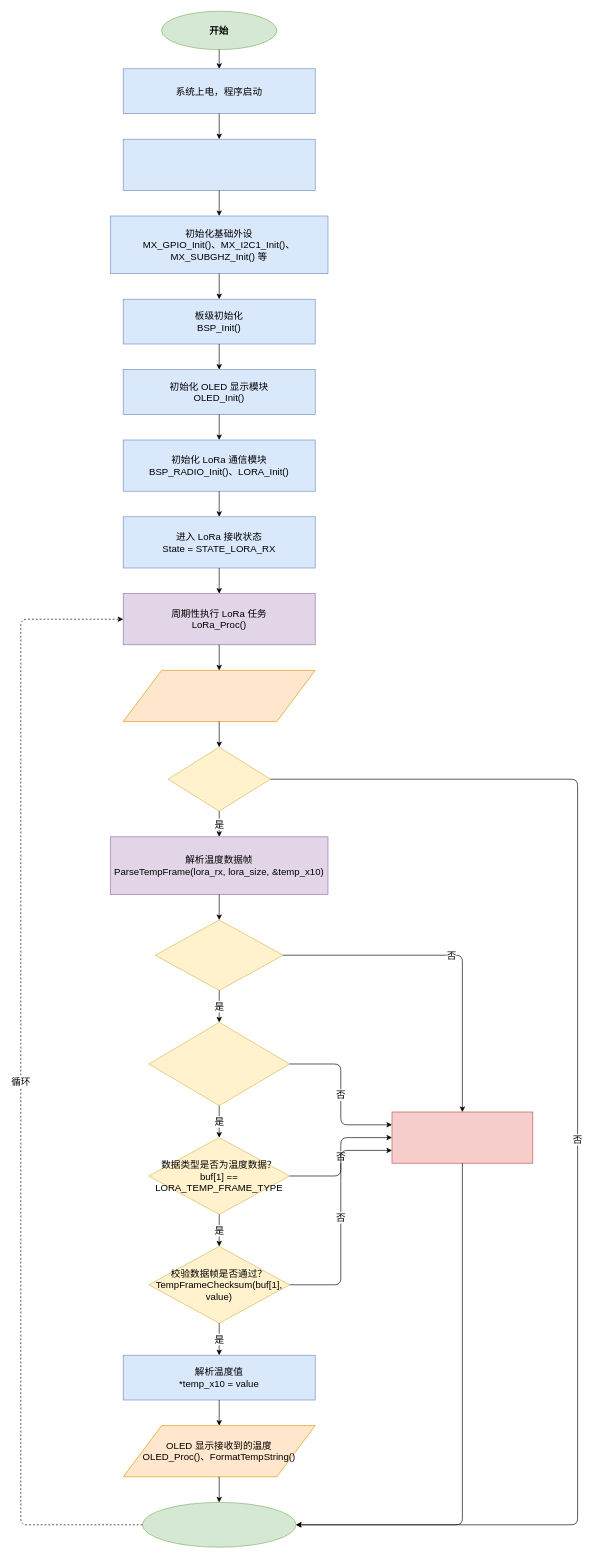
This 594x1558 diagram has some shape labels left out. The box of each missing label's shape, as (x1, y1, x2, y2) in pixels:
丢弃本帧 返回等待接收: (391, 1111, 533, 1163)
初始化 HAL 库和系统时钟 HAL_Init()、SystemClock_Config(): (123, 139, 315, 190)
帧头和帧尾是否正确？ buf[0] == 0xAA buf[5] == 0x55: (148, 1022, 290, 1106)
接收 LoRa 数据 LORA_Rx(lora_rx, &lora_size): (123, 670, 315, 722)
数据长度是否正确？ size == LORA_TEMP_FRAME_SIZE: (155, 919, 283, 990)
是否接收到数据？: (167, 747, 270, 811)
继续等待接收 循环执行: (142, 1502, 296, 1547)
